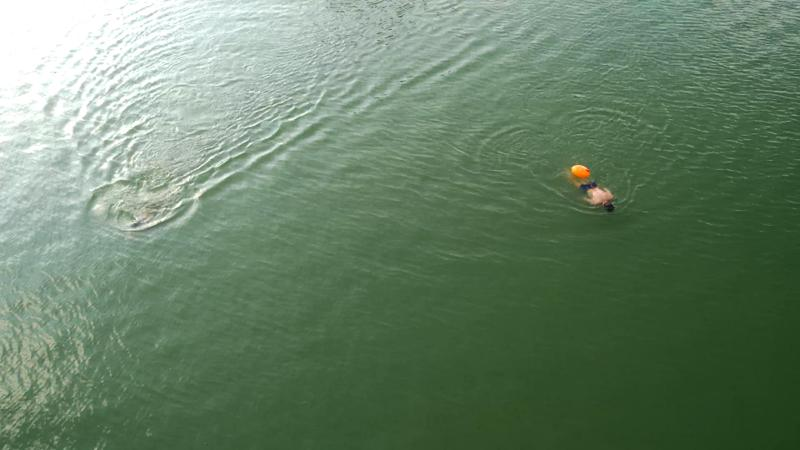swimmers: (564, 169, 616, 214)
